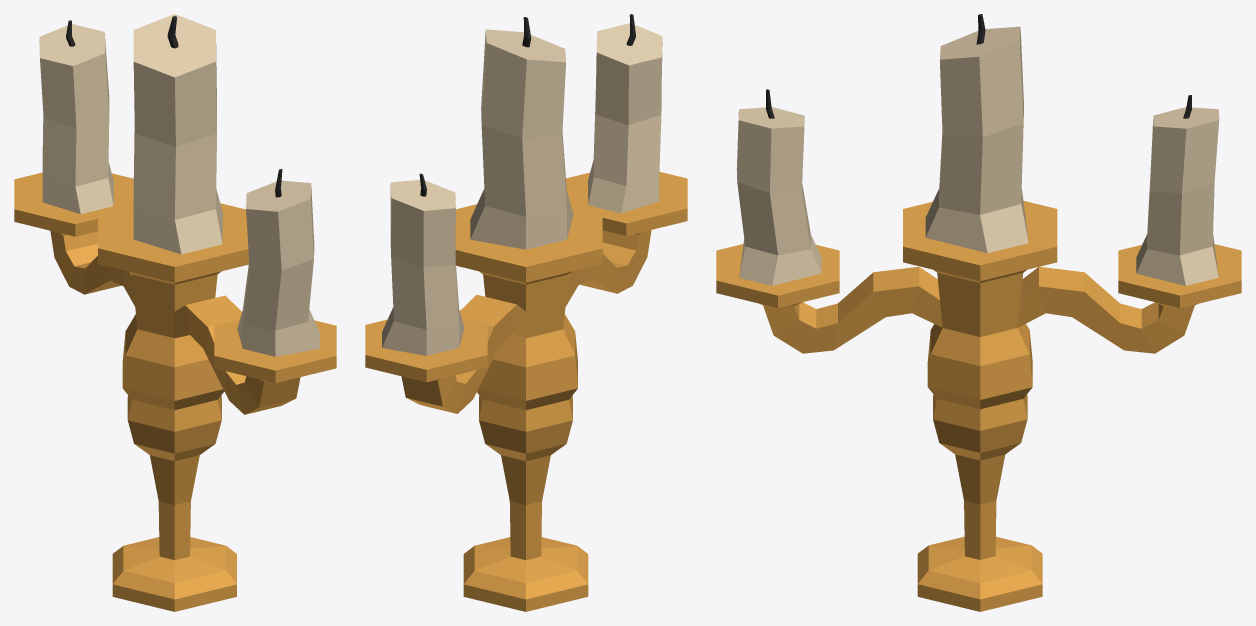
The model's file is Candelabrum.glb.
3 renders of one model, left to right at view 1: azimuth 30°, elevation 25°; view 2: azimuth 150°, elevation 25°; view 3: azimuth 270°, elevation 25°, orthographic.
Visible parts, largest first — view 1: Candelabrum; view 2: Candelabrum; view 3: Candelabrum.
Part boxes in pixels (x1,y1,x2,y2): Candelabrum: [14, 14, 336, 611]; Candelabrum: [365, 14, 687, 611]; Candelabrum: [716, 14, 1241, 611].
Size of the model in its own units: 0.3061 by 1.08 by 0.9028.
